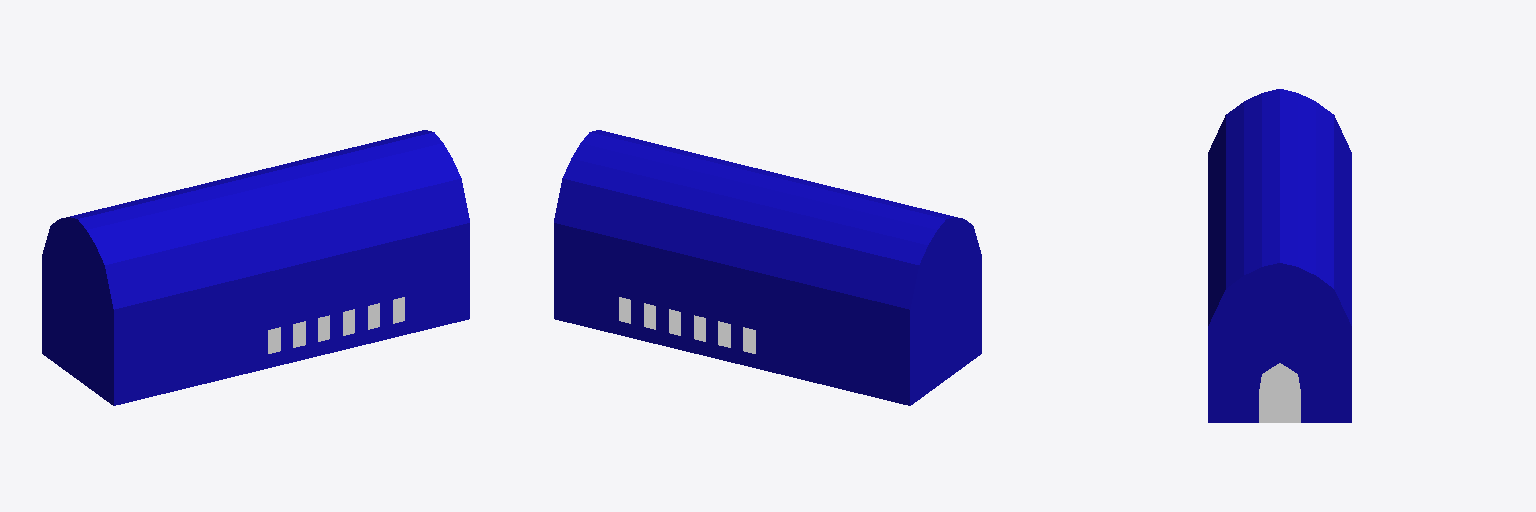
The model's file is Church.obj.
3 renders of one model, left to right at view 1: azimuth 30°, elevation 25°; view 2: azimuth 150°, elevation 25°; view 3: azimuth 270°, elevation 25°, orthographic.
Parts seen in each view (by area): view 1: Cube.001_Walls.001; view 2: Cube.001_Walls.001; view 3: Cube.001_Walls.001.
Boxes of the visible parts, x1=… form: Cube.001_Walls.001: x1=42, y1=130, x2=469, y2=405; Cube.001_Walls.001: x1=554, y1=130, x2=981, y2=405; Cube.001_Walls.001: x1=1208, y1=89, x2=1351, y2=422.
Size of the model in its own units: 242 by 104 by 84.41.